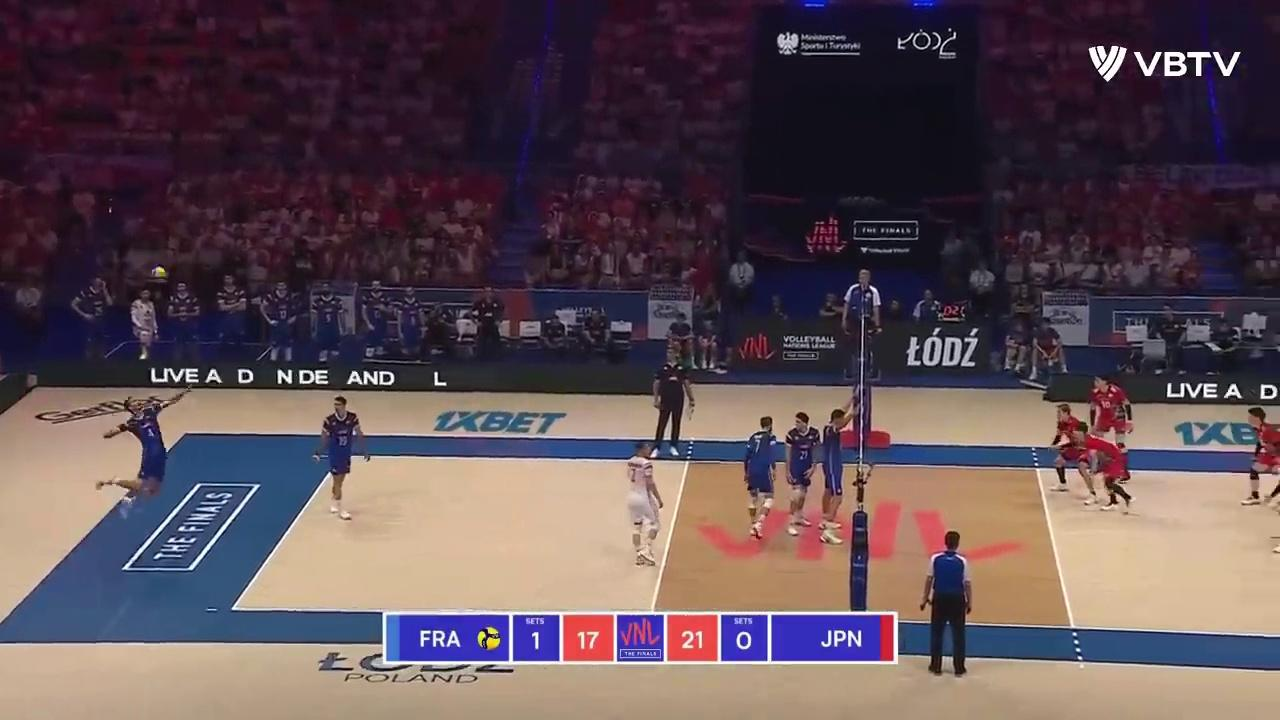ball: (152, 266, 168, 280)
